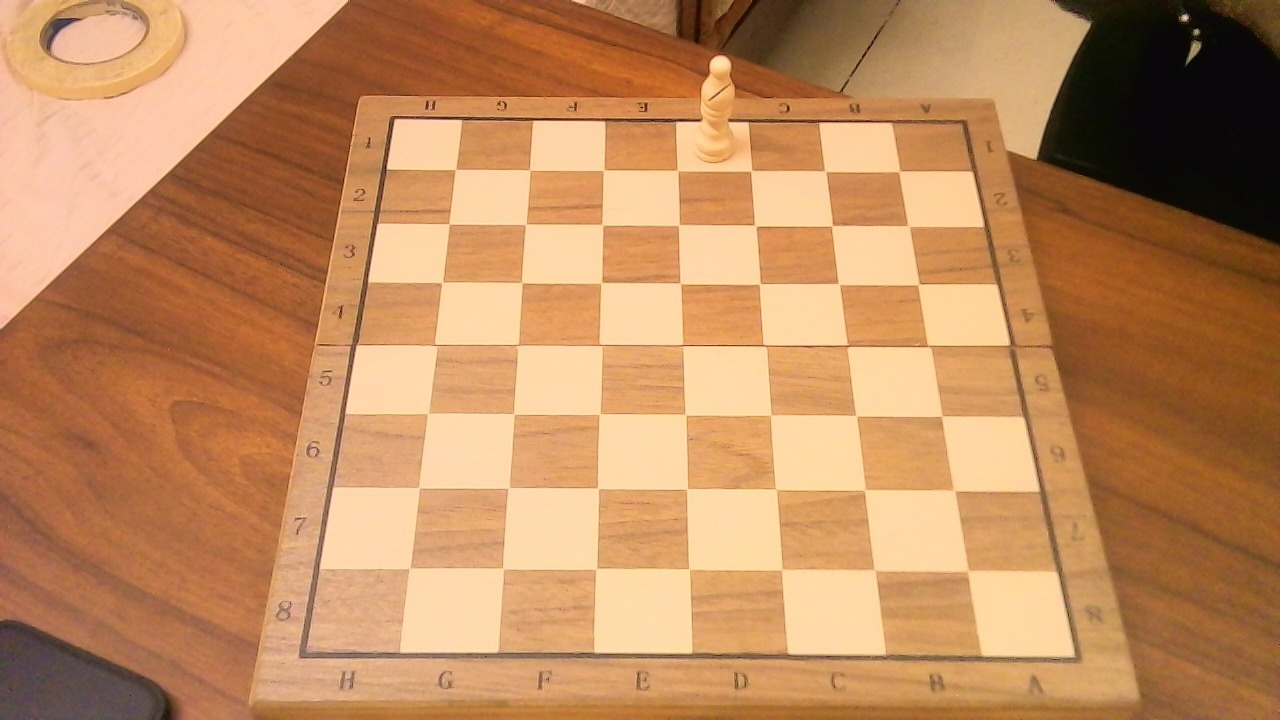B: (685, 44, 744, 167)
